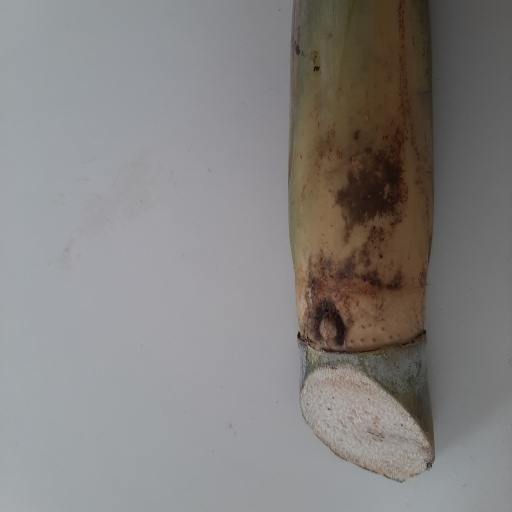Bud: (317, 312, 344, 348)
